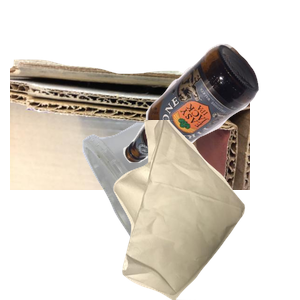cardboard: (10, 57, 250, 237)
glass: (120, 41, 300, 196)
plastic: (80, 120, 289, 300)
trash: (111, 120, 300, 300)
